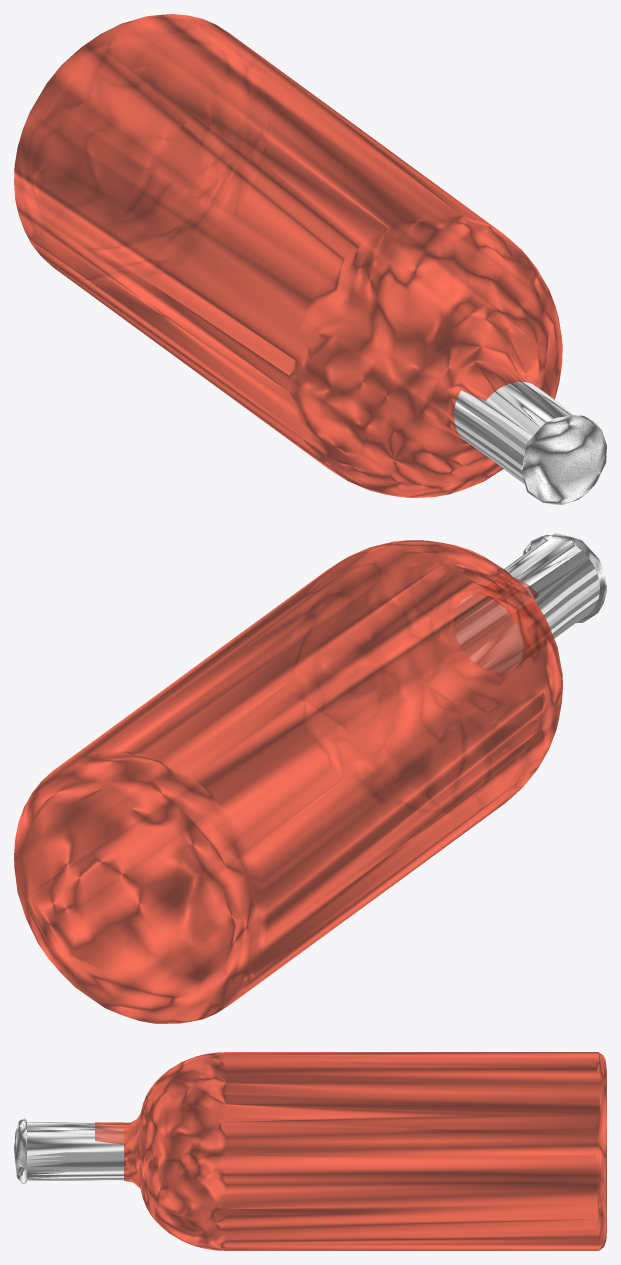
The model's file is model_align.obj.
3 views of the same model, one above another, from view 1: azimuth 30°, elevation 25°; view 2: azimuth 150°, elevation 25°; view 3: azimuth 270°, elevation 25° (orthographic). The views are drawn at different scales.
Bounding box in the file's own units: 0.0799 × 0.0799 × 0.2381.
